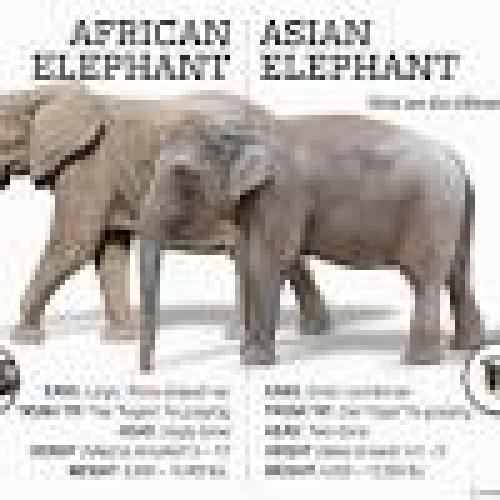asian_elephant-endangered: (138, 122, 483, 372)
